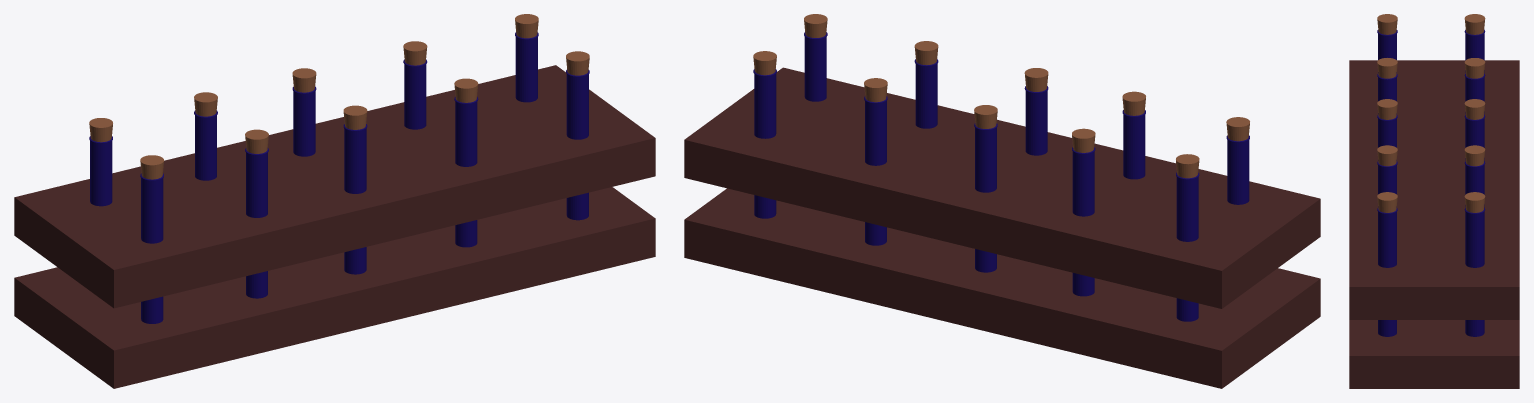
File: potion 5.fbx
3 renders of one model, left to right at view 1: azimuth 30°, elevation 25°; view 2: azimuth 150°, elevation 25°; view 3: azimuth 270°, elevation 25°, orthographic. The views are drawn at different scales.
Visible parts, largest first — view 1: Cube.001; view 2: Cube.001; view 3: Cube.001.
Boxes of the visible parts, left/top/right/bottom form: Cube.001: left=14, top=14, right=655, bottom=388; Cube.001: left=684, top=14, right=1320, bottom=388; Cube.001: left=1349, top=14, right=1519, bottom=388.
Size of the model in its own units: 12.76 by 40.1 by 13.98.
